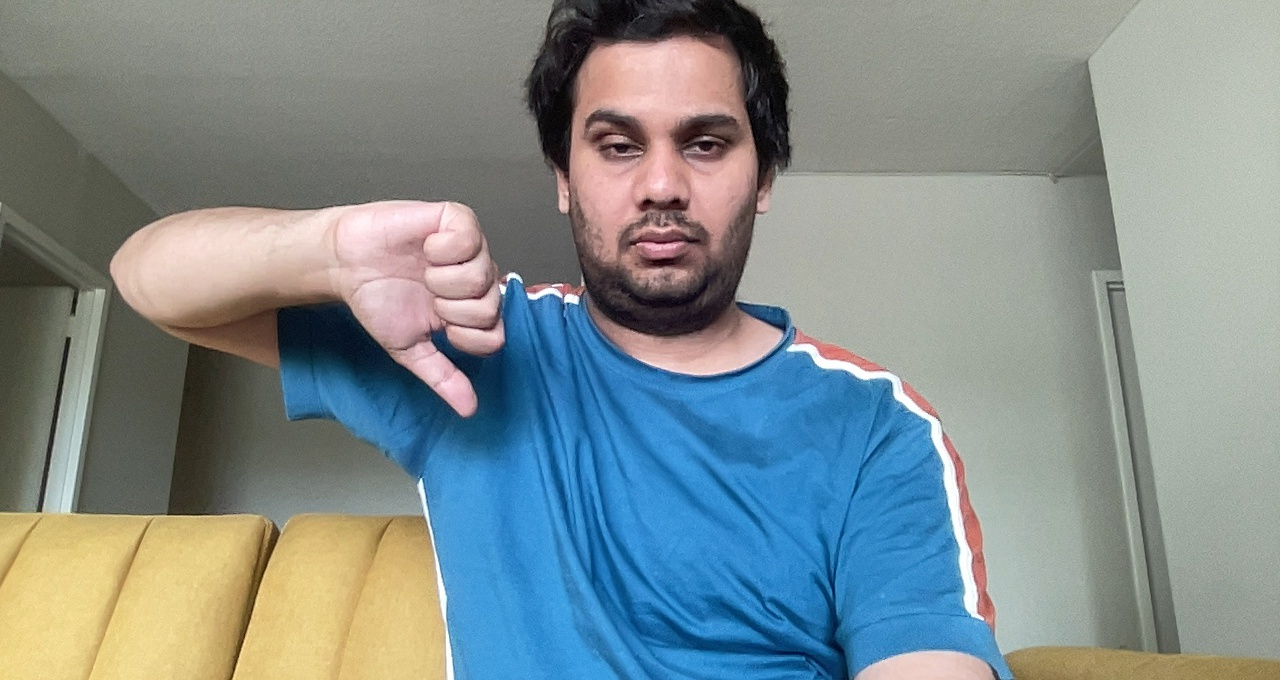thumbsdown: (330, 194, 537, 418)
